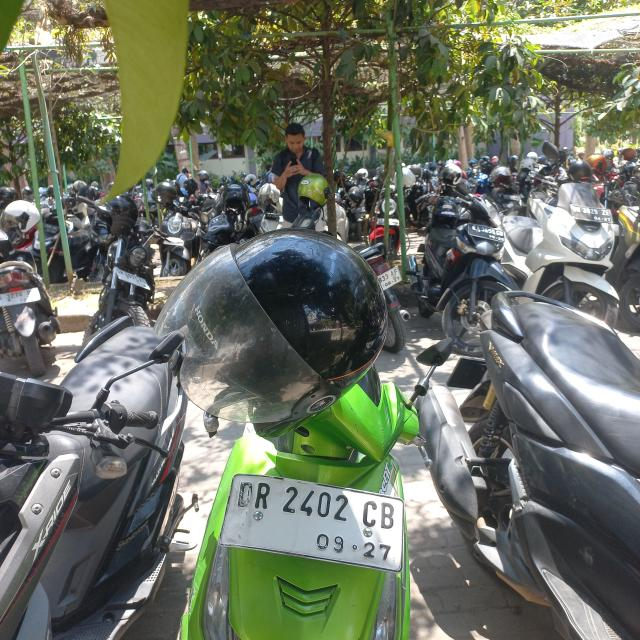plate: (218, 473, 406, 568), (570, 205, 614, 224)
